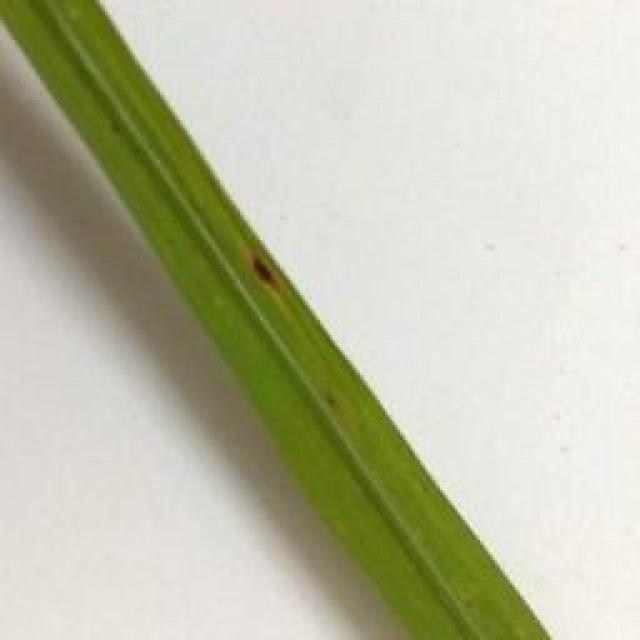Brown_Spot: (241, 240, 289, 304)
